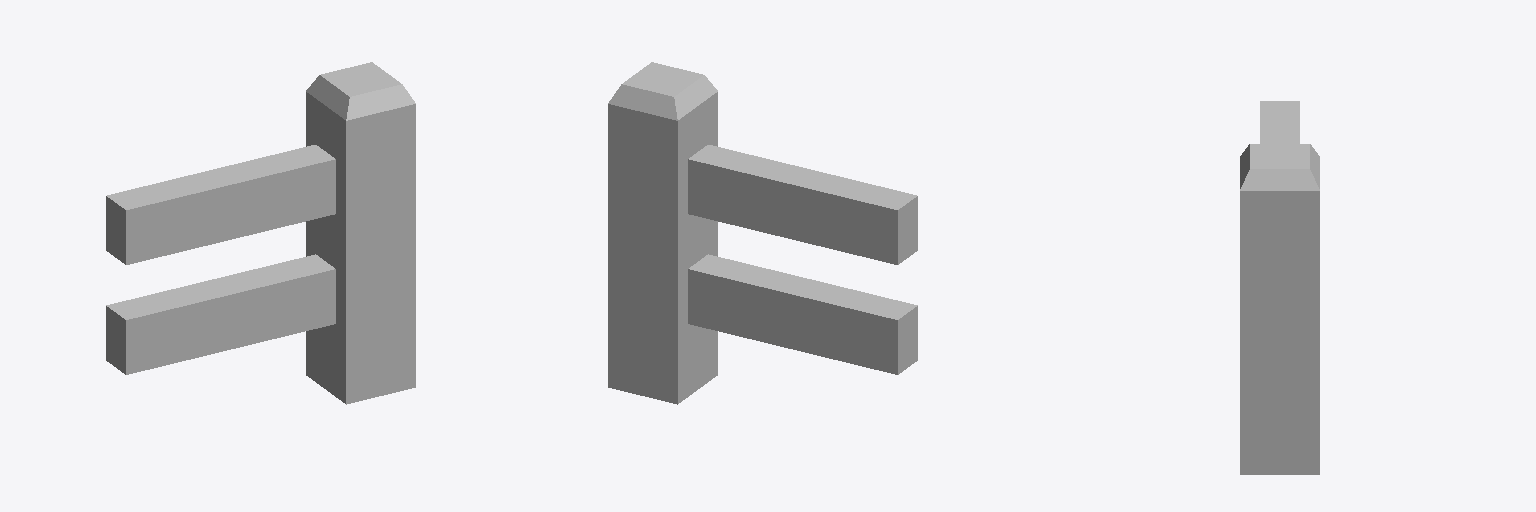
The model's file is Fence.obj.
The picture shows the model from 3 angles: view 1: azimuth 30°, elevation 25°; view 2: azimuth 150°, elevation 25°; view 3: azimuth 270°, elevation 25°; orthographic projection.
Parts seen in each view (by area): view 1: pCube1; view 2: pCube1; view 3: pCube1.
Part boxes in pixels (x1,y1,x2,y2): pCube1: (106, 62, 415, 404); pCube1: (608, 62, 917, 404); pCube1: (1240, 101, 1319, 474).
Bounding box in the file's own units: 1 × 1.03 × 0.25.